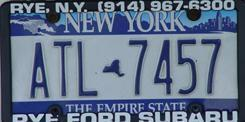placa de veiculo: (6, 0, 241, 122)
